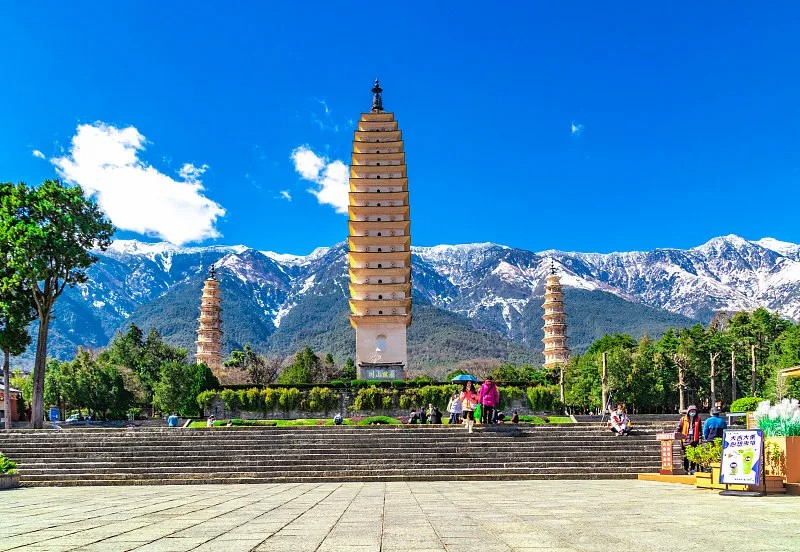ThreePagoda: (348, 78, 412, 380)
